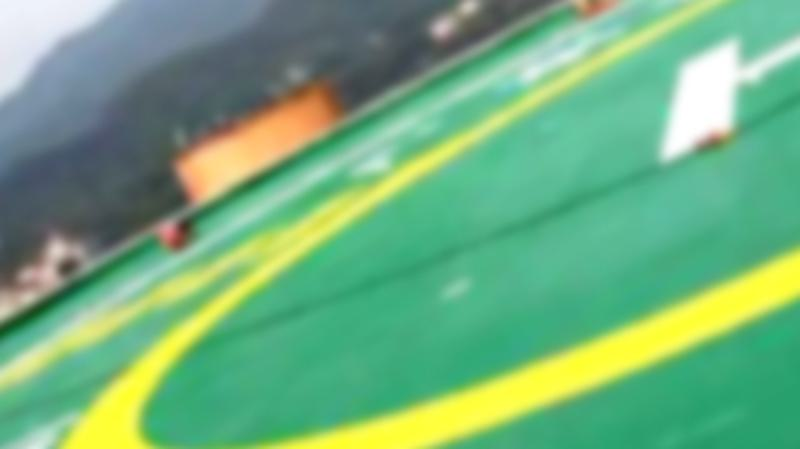Apron: (65, 2, 800, 448)
